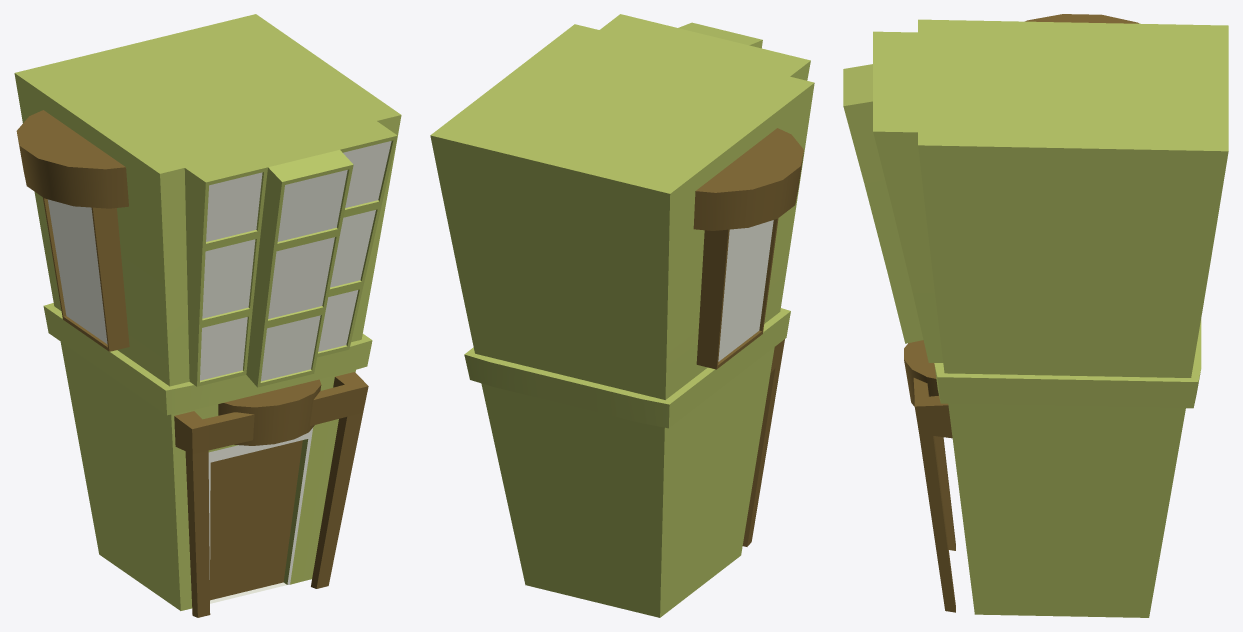
The model's file is casa_cidade02.FBX.
The picture shows the model from 3 angles, left to right: view 1: azimuth 30°, elevation 25°; view 2: azimuth 150°, elevation 25°; view 3: azimuth 270°, elevation 25°; orthographic projection. The views are drawn at different scales.
Parts seen in each view (by area): view 1: Cidade_Predio_02; view 2: Cidade_Predio_02; view 3: Cidade_Predio_02.
Part boxes in pixels (bbox=[...]): Cidade_Predio_02: bbox=[14, 14, 401, 617]; Cidade_Predio_02: bbox=[430, 14, 814, 617]; Cidade_Predio_02: bbox=[843, 14, 1228, 617].
Bounding box in the file's own units: 13.7 × 14.49 × 20.91.
